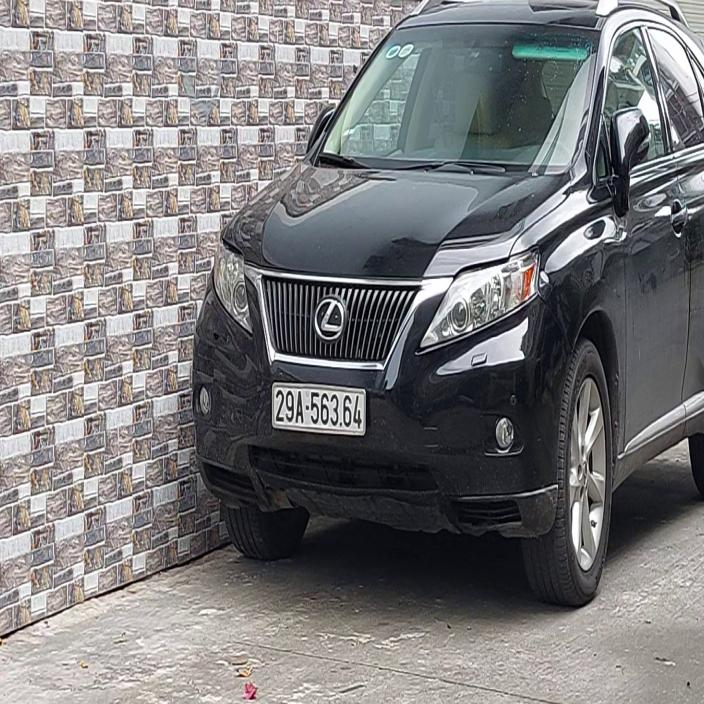numplate: (271, 376, 373, 441)
